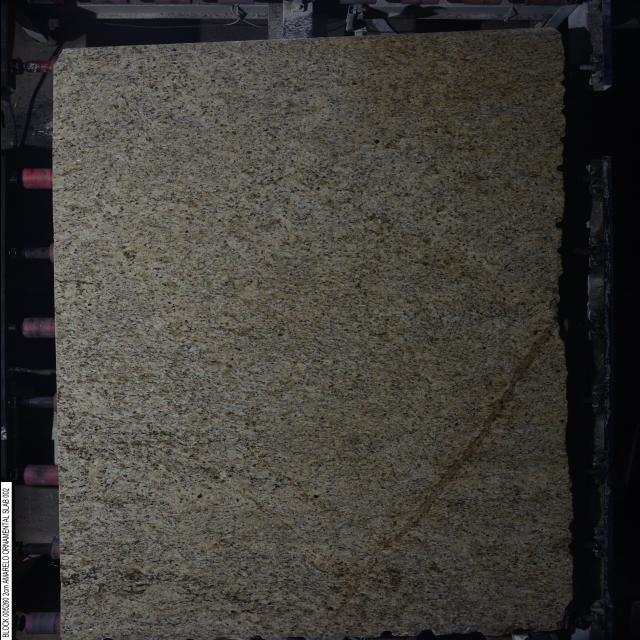chapa: (52, 29, 572, 640)
veio: (552, 219, 566, 232)
